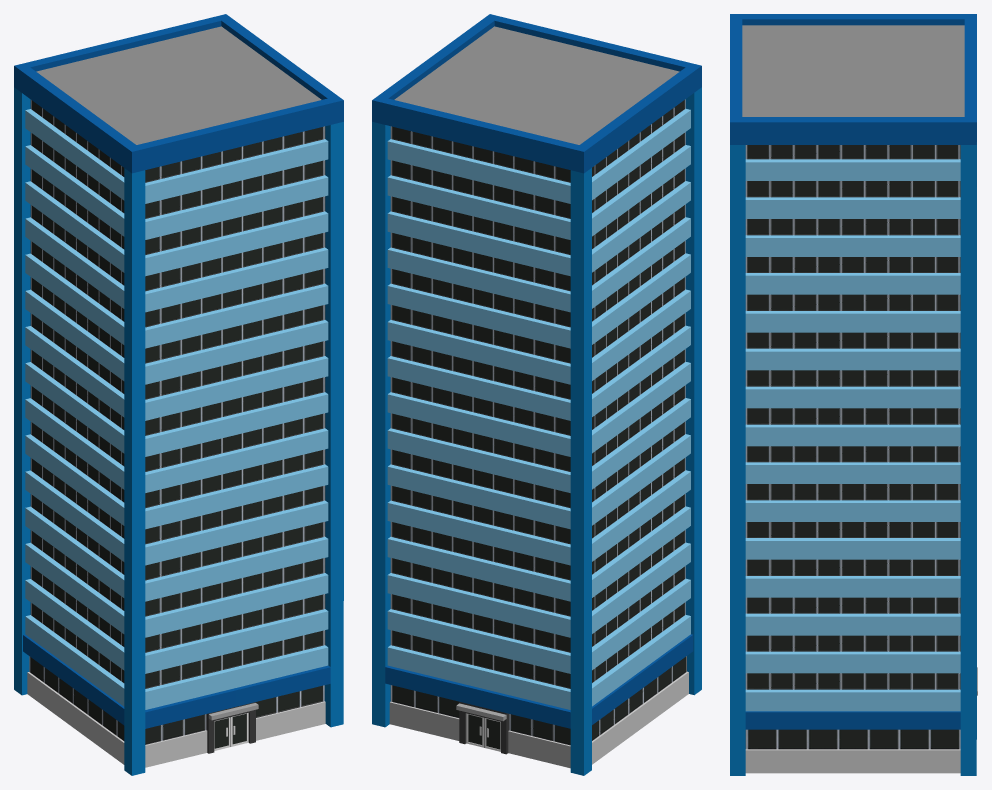
3 renders of one model, left to right at view 1: azimuth 30°, elevation 25°; view 2: azimuth 150°, elevation 25°; view 3: azimuth 270°, elevation 25°, orthographic. The views are drawn at different scales.
Parts seen in each view (by area): view 1: BC-11; view 2: BC-11; view 3: BC-11.
Boxes of the visible parts, box(x1,y1,x2,y2) form: BC-11: box(14, 14, 343, 775); BC-11: box(372, 14, 701, 775); BC-11: box(730, 14, 977, 775).
Bounding box in the file's own units: 18.41 × 51.79 × 17.79.
